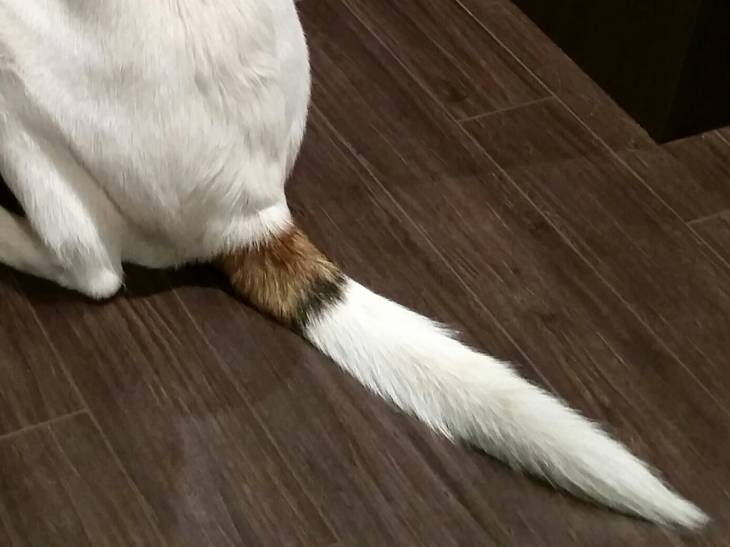tail: (210, 212, 721, 542)
